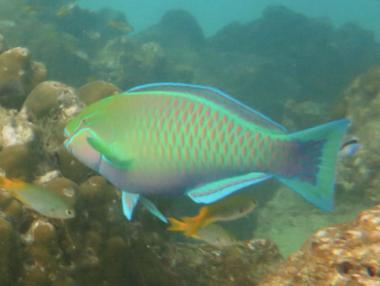Scaridae -Parrotfishes-: (58, 75, 351, 224)
